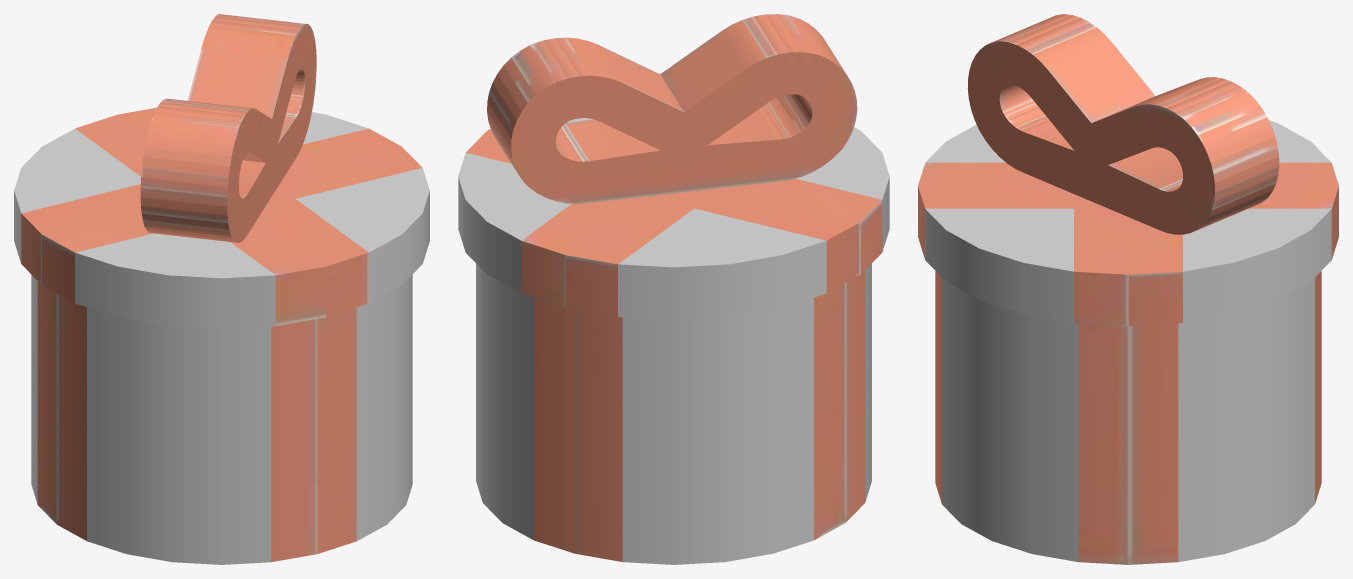
Rendered from presents_optimized.glb.
3 renders of one model, left to right at view 1: azimuth 30°, elevation 25°; view 2: azimuth 150°, elevation 25°; view 3: azimuth 270°, elevation 25°, orthographic. The views are drawn at different scales.
Visible parts, largest first — view 1: presentRound; view 2: presentRound; view 3: presentRound.
Boxes of the visible parts, x1,y1,x2,y2 form: presentRound: (14,14,429,564); presentRound: (458,14,889,564); presentRound: (918,14,1338,564).
Size of the model in its own units: 0.361 by 0.3997 by 0.361.
Materials: 1 (1 with a texture image).
